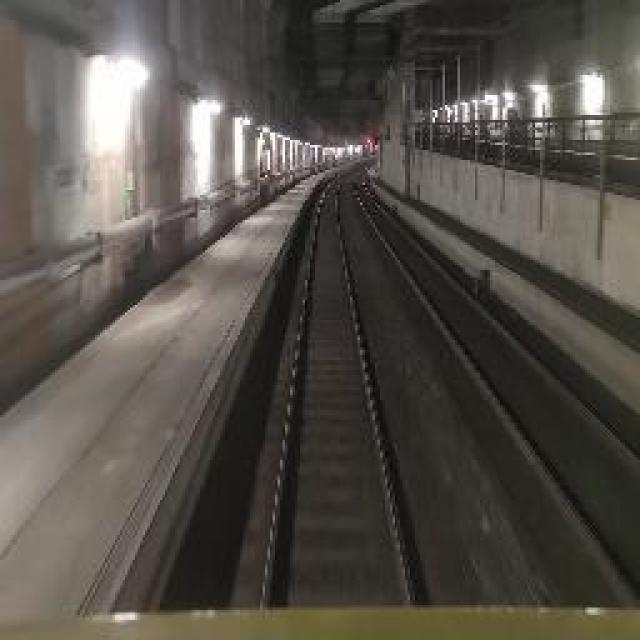rail: (233, 157, 451, 604)
